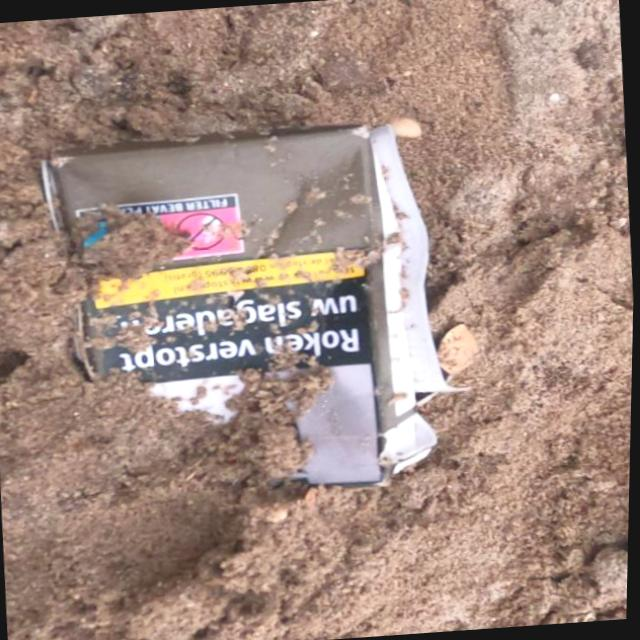Paper: (26, 115, 461, 510)
